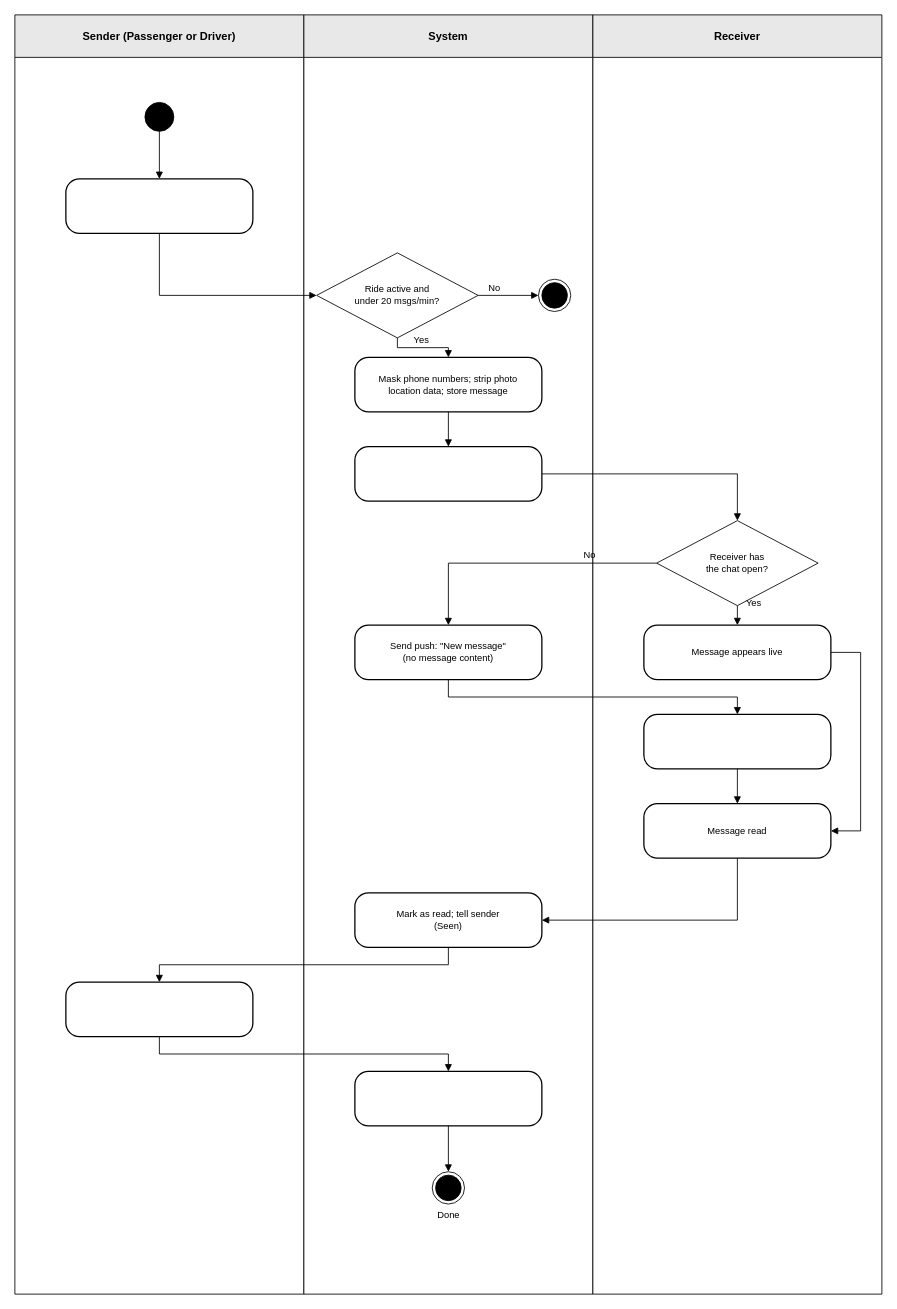
Image size: 897x1309. Some labels were removed from this diagram. The centre of each missing label's shape, as x and y in pixels:
After the ride ends the thread becomes read-only: the point at 448,1098
Deliver instantly (realtime): the point at 448,473
Refused: the point at 554,295
Sender sees "Seen": the point at 159,1009
Tap notification: chat opens: the point at 737,741
Write a message, tap a quick reply, or attach a photo: the point at 159,206
